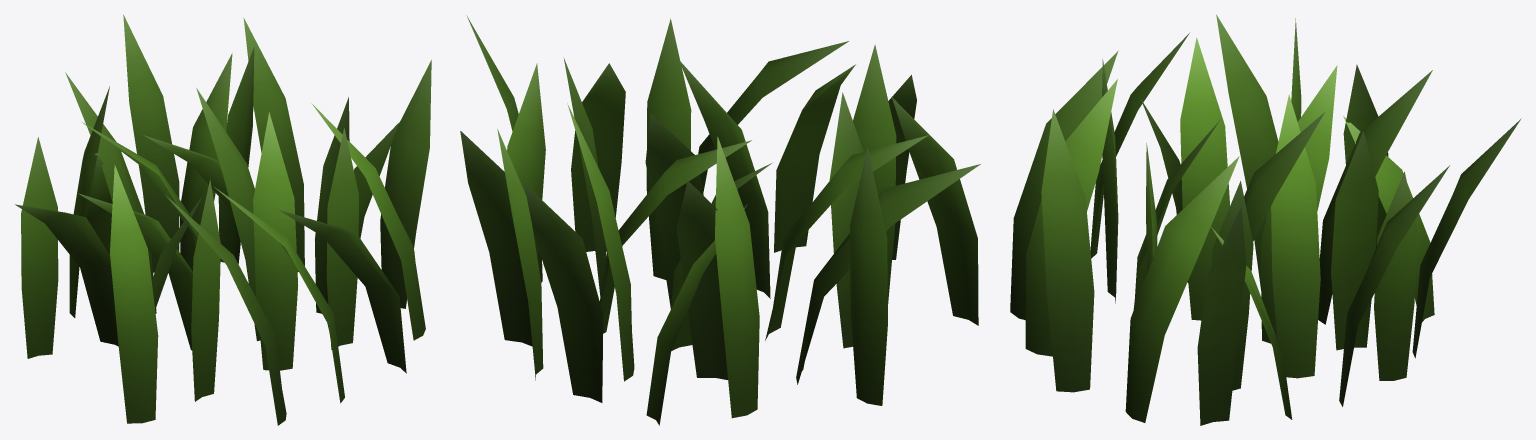
The model's file is Grass_Patch_03.fbx.
3 views of the same model, side by side, from view 1: azimuth 30°, elevation 25°; view 2: azimuth 150°, elevation 25°; view 3: azimuth 270°, elevation 25° (orthographic). The views are drawn at different scales.
Visible parts, largest first — view 1: Grass_Patch_03; view 2: Grass_Patch_03; view 3: Grass_Patch_03.
Part boxes in pixels (x1,y1,x2,y2): Grass_Patch_03: [15, 14, 431, 425]; Grass_Patch_03: [460, 15, 980, 425]; Grass_Patch_03: [1010, 14, 1521, 425].
Size of the model in its own units: 74.65 by 37.5 by 71.2.
Materials: 1 (1 with a texture image).
